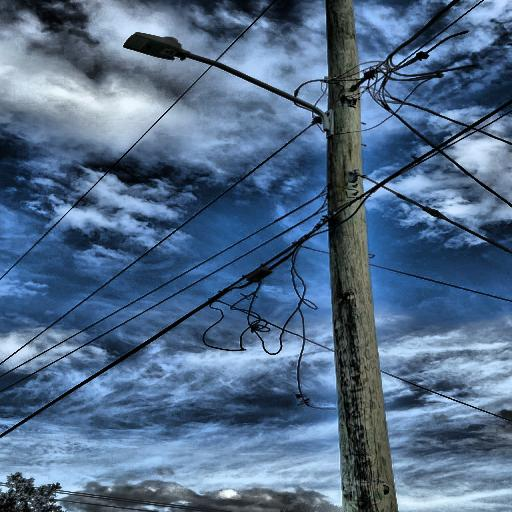pole: (313, 0, 440, 512)
street light: (117, 22, 341, 136)
